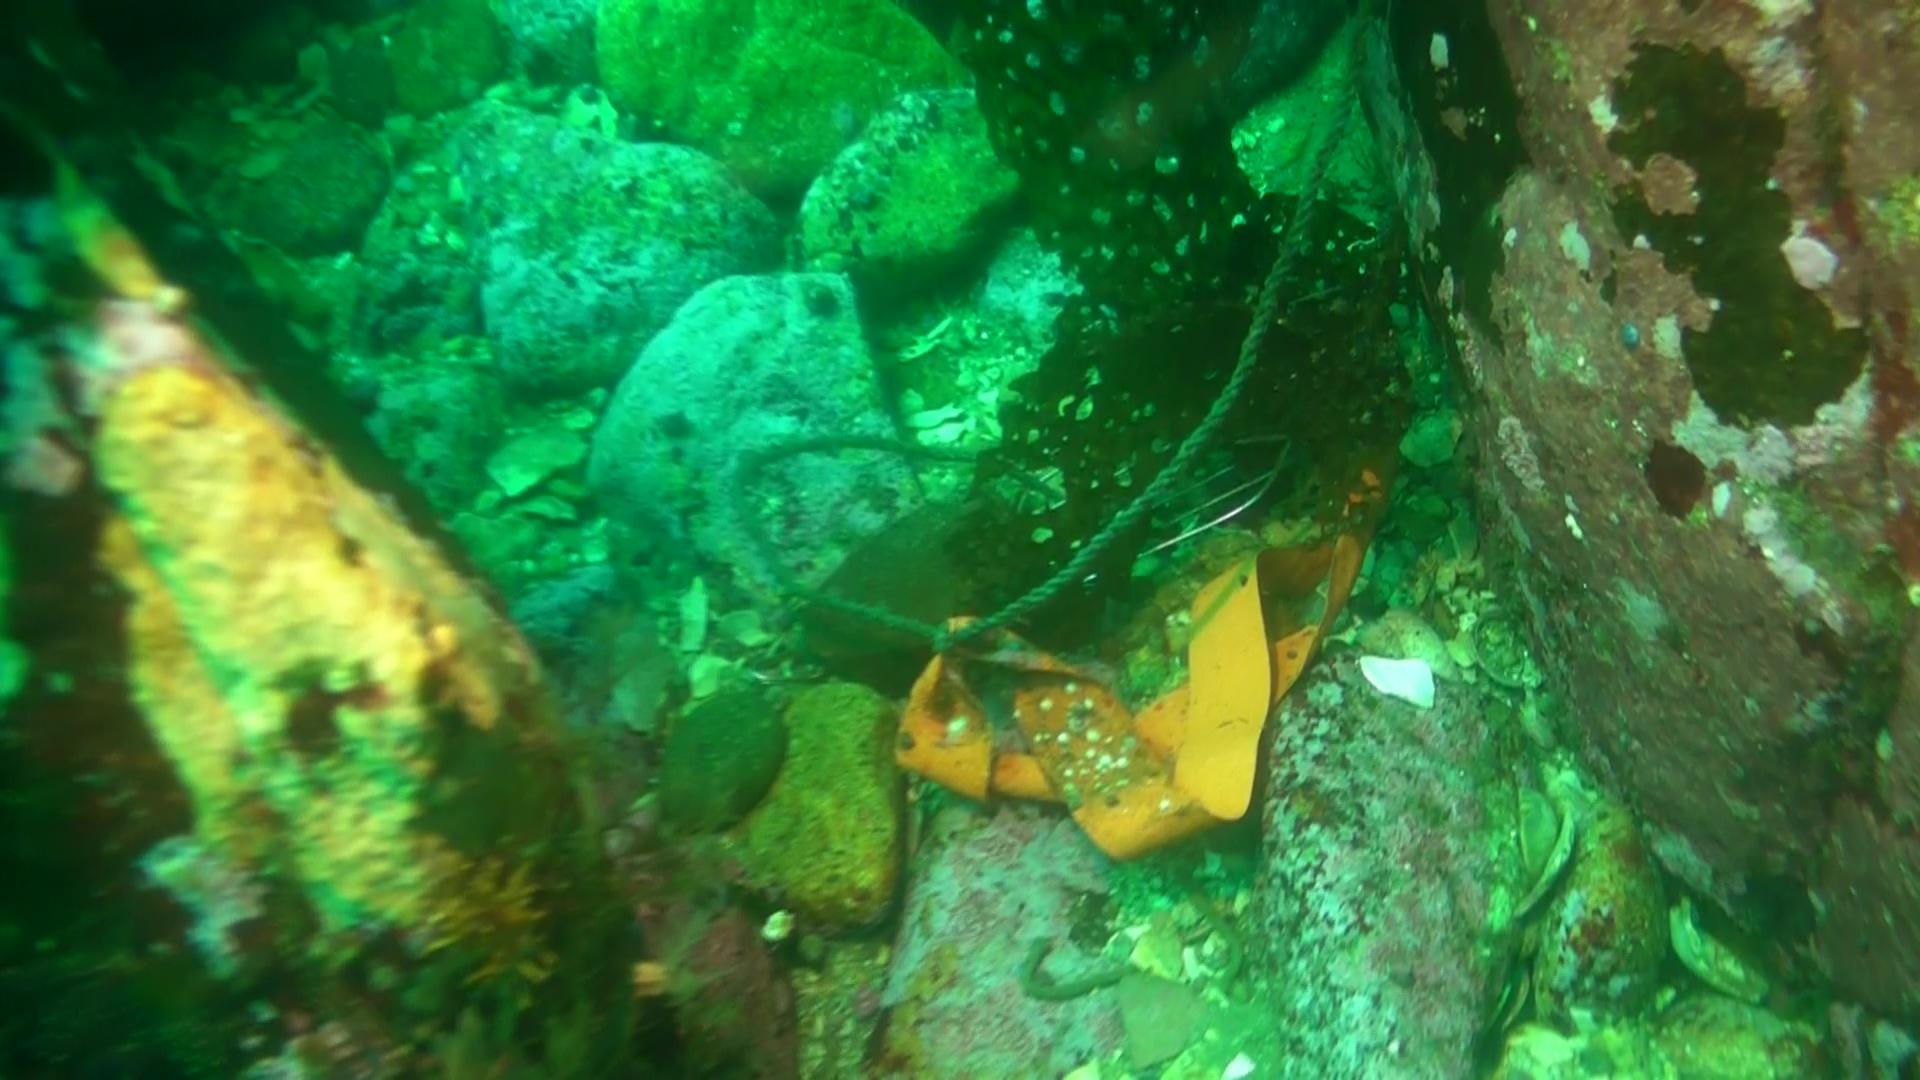rope: (942, 0, 1375, 647)
